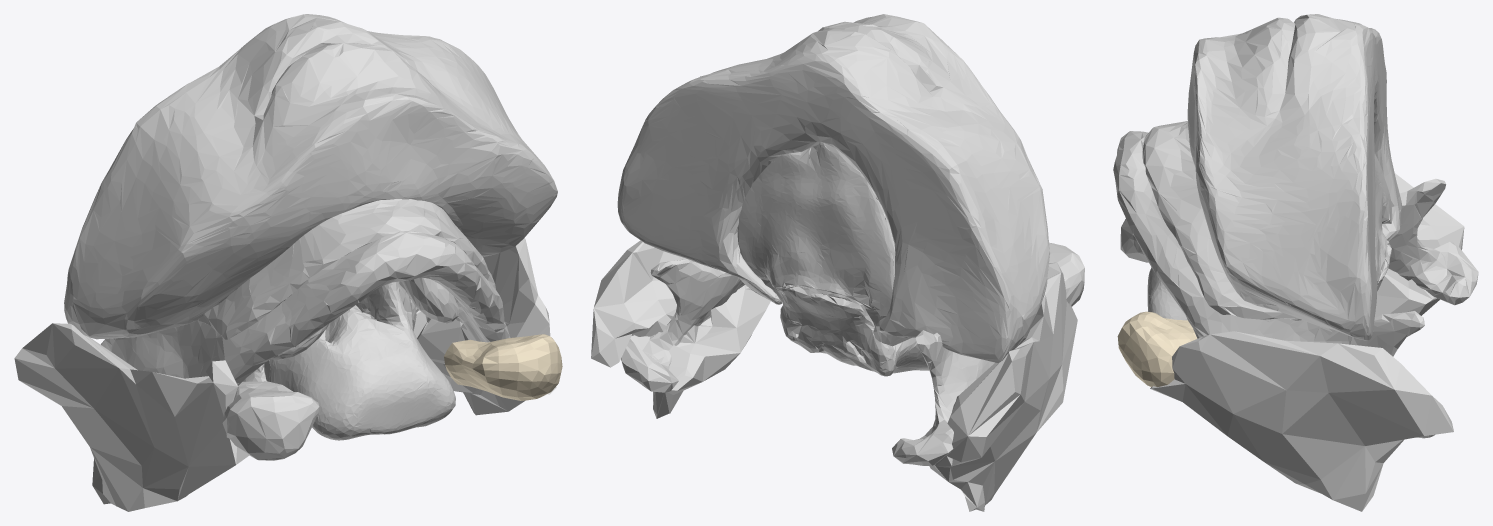
File: mouth-male.glb
The picture shows the model from 3 angles, left to right: view 1: azimuth 30°, elevation 25°; view 2: azimuth 150°, elevation 25°; view 3: azimuth 270°, elevation 25°; orthographic projection. The views are drawn at different scales.
Parts seen in each view (by area): view 1: VH_M_buccal_mucosa, VH_M_parotid_gland_R, VH_M_mandible, VH_M_posterior_part_of_tongue, VH_M_gingiva_of_lower_jaw, VH_M_parotid_gland_L, VH_M_submandibular_gland_L, VH_M_submandibular_gland_R, VH_M_sublingual_gland_L; view 2: VH_M_buccal_mucosa, VH_M_hard_palate, VH_M_parotid_gland_R, VH_M_parotid_gland_L, VH_M_mandible, VH_M_mucosa_of_soft_palate, VH_M_submandibular_gland_R; view 3: VH_M_buccal_mucosa, VH_M_parotid_gland_L, VH_M_mandible, VH_M_gingiva_of_lower_jaw, VH_M_submandibular_gland_L, VH_M_parotid_gland_R, VH_M_hard_palate, VH_M_posterior_part_of_tongue, VH_M_submandibular_gland_R.
Boxes of the visible parts, bbox=[...] form: VH_M_buccal_mucosa: bbox=[64, 14, 557, 339]; VH_M_parotid_gland_R: bbox=[14, 323, 249, 511]; VH_M_mandible: bbox=[101, 231, 510, 385]; VH_M_posterior_part_of_tongue: bbox=[264, 281, 455, 440]; VH_M_gingiva_of_lower_jaw: bbox=[197, 199, 495, 339]; VH_M_parotid_gland_L: bbox=[413, 238, 556, 415]; VH_M_submandibular_gland_L: bbox=[444, 334, 562, 400]; VH_M_submandibular_gland_R: bbox=[222, 381, 319, 460]; VH_M_sublingual_gland_L: bbox=[401, 277, 458, 323]; VH_M_buccal_mucosa: bbox=[617, 14, 1049, 363]; VH_M_hard_palate: bbox=[737, 143, 893, 317]; VH_M_parotid_gland_R: bbox=[929, 262, 1077, 511]; VH_M_parotid_gland_L: bbox=[591, 240, 770, 418]; VH_M_mandible: bbox=[621, 259, 994, 465]; VH_M_mucosa_of_soft_palate: bbox=[761, 279, 929, 376]; VH_M_submandibular_gland_R: bbox=[1049, 242, 1084, 306]; VH_M_buccal_mucosa: bbox=[1187, 14, 1401, 340]; VH_M_parotid_gland_L: bbox=[1150, 331, 1453, 511]; VH_M_mandible: bbox=[1113, 131, 1478, 438]; VH_M_gingiva_of_lower_jaw: bbox=[1142, 121, 1301, 320]; VH_M_submandibular_gland_L: bbox=[1117, 311, 1197, 386]; VH_M_parotid_gland_R: bbox=[1374, 173, 1464, 317]; VH_M_hard_palate: bbox=[1374, 154, 1392, 282]; VH_M_posterior_part_of_tongue: bbox=[1147, 267, 1187, 320]; VH_M_submandibular_gland_R: bbox=[1120, 219, 1148, 262].
Bounding box in the file's own units: 0.00013 × 0.000125 × 9.93e-05.
